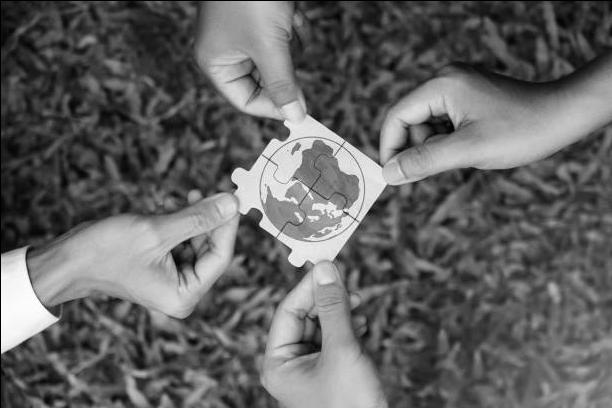Non_Gorille: (91, 13, 558, 389)
